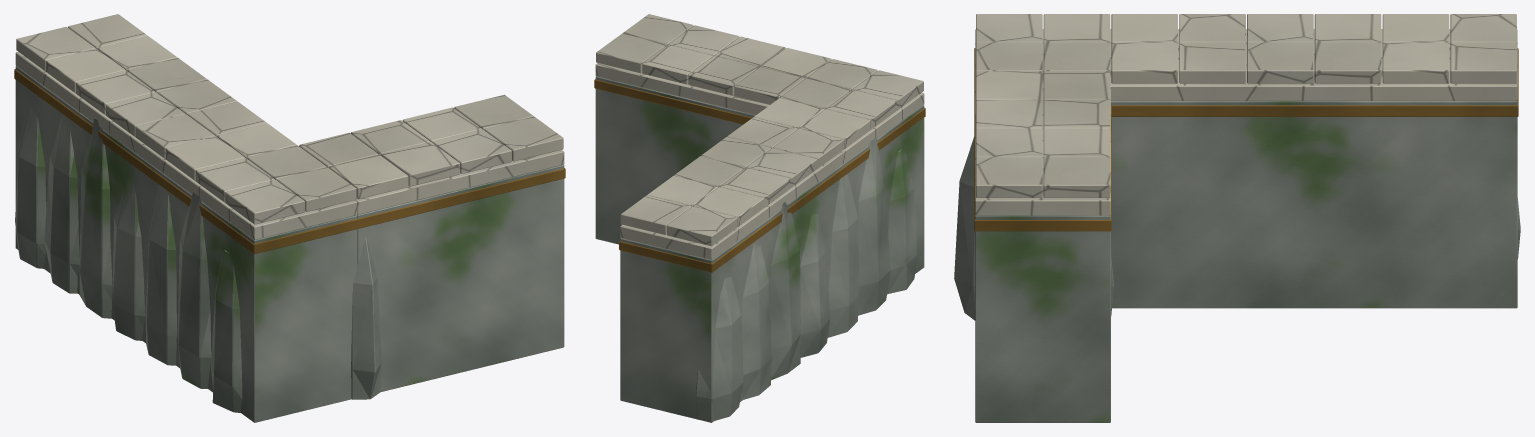
Rendered from t02_shore_outer.fbx.
The picture shows the model from 3 angles, left to right: view 1: azimuth 30°, elevation 25°; view 2: azimuth 150°, elevation 25°; view 3: azimuth 270°, elevation 25°; orthographic projection. The views are drawn at different scales.
Visible parts, largest first — view 1: t02_shore_outer.004; view 2: t02_shore_outer.004; view 3: t02_shore_outer.004.
Part boxes in pixels (x1=…): t02_shore_outer.004: x1=14, y1=14, x2=565, y2=422; t02_shore_outer.004: x1=594, y1=14, x2=925, y2=422; t02_shore_outer.004: x1=954, y1=14, x2=1520, y2=422.
Size of the model in its own units: 53505 by 40028 by 24800.
